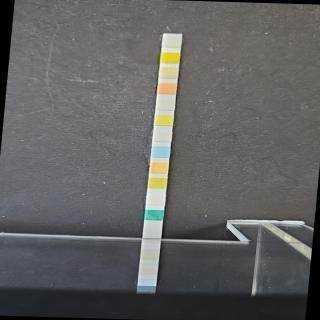mark: (147, 177, 168, 189), (160, 52, 180, 64), (157, 82, 177, 94), (152, 130, 172, 142), (149, 162, 169, 174), (146, 193, 166, 205), (156, 99, 175, 111), (154, 114, 173, 126), (151, 146, 170, 158), (162, 37, 182, 48), (158, 68, 178, 79), (145, 210, 164, 221)
